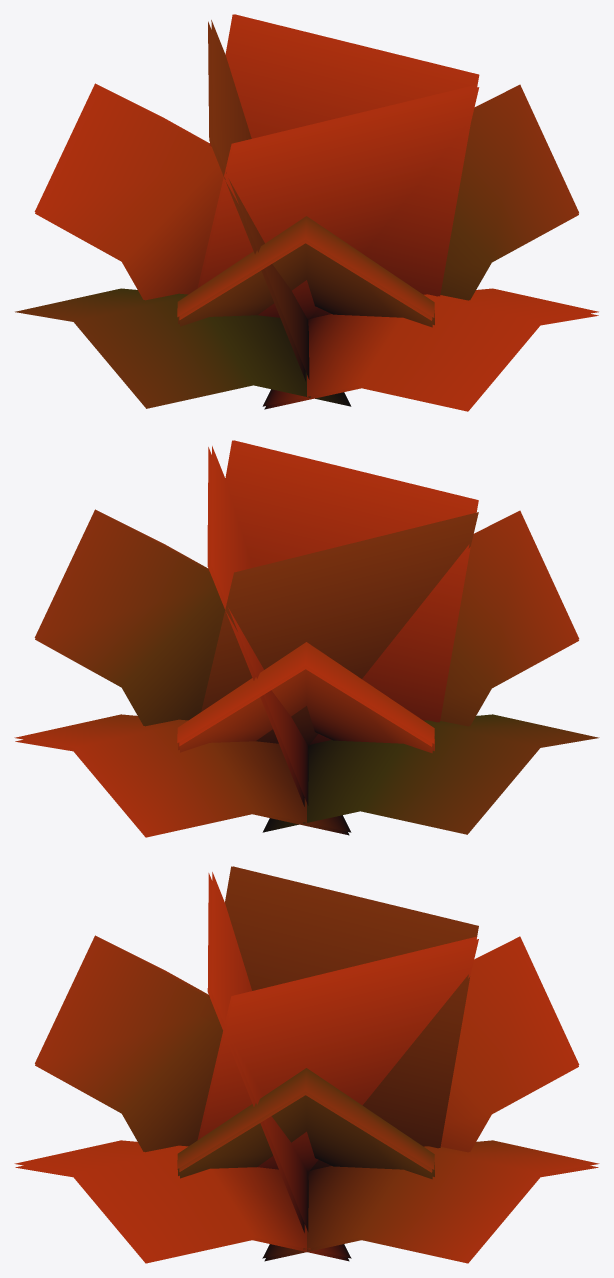
File: Grass04_high.FBX
The picture shows the model from 3 angles, top to bottom: view 1: azimuth 30°, elevation 25°; view 2: azimuth 150°, elevation 25°; view 3: azimuth 270°, elevation 25°; orthographic projection.
Parts seen in each view (by area): view 1: Grass04_high; view 2: Grass04_high; view 3: Grass04_high.
Part boxes in pixels (left/top/right/bottom): Grass04_high: left=15, top=14, right=598, bottom=411; Grass04_high: left=14, top=440, right=599, bottom=837; Grass04_high: left=14, top=866, right=599, bottom=1263.
Size of the model in its own units: 0.4097 by 0.2425 by 0.4651.
